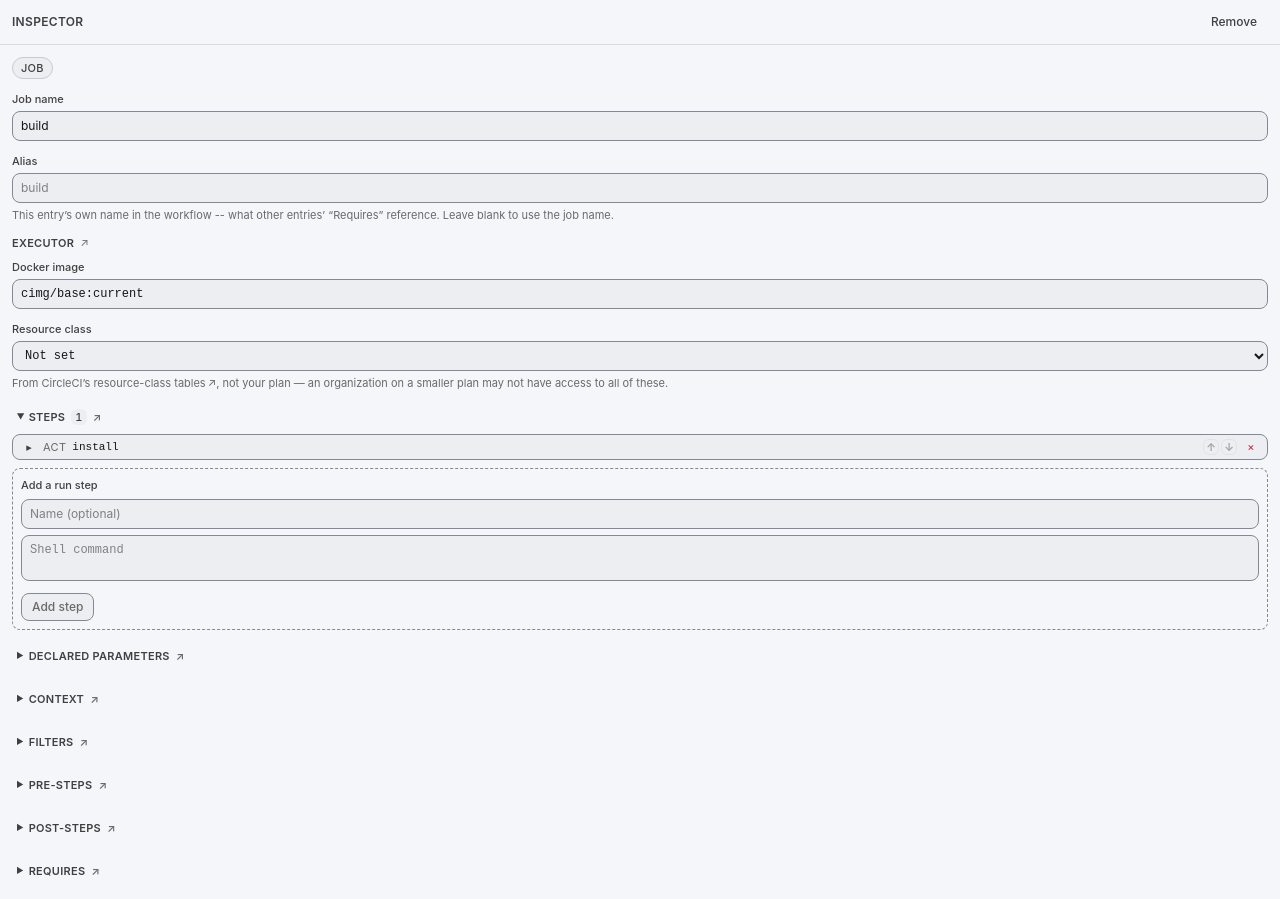
Test: Inspector -- an orb command step is editable (issue #252) › keeps a parameter the orb does not declare, labelled rather than dropped
What coordinates should you click on to do the following:
click the button named "expand install"
I would click on:
 (29, 447)
Its box is x1=21 y1=439 x2=37 y2=455.
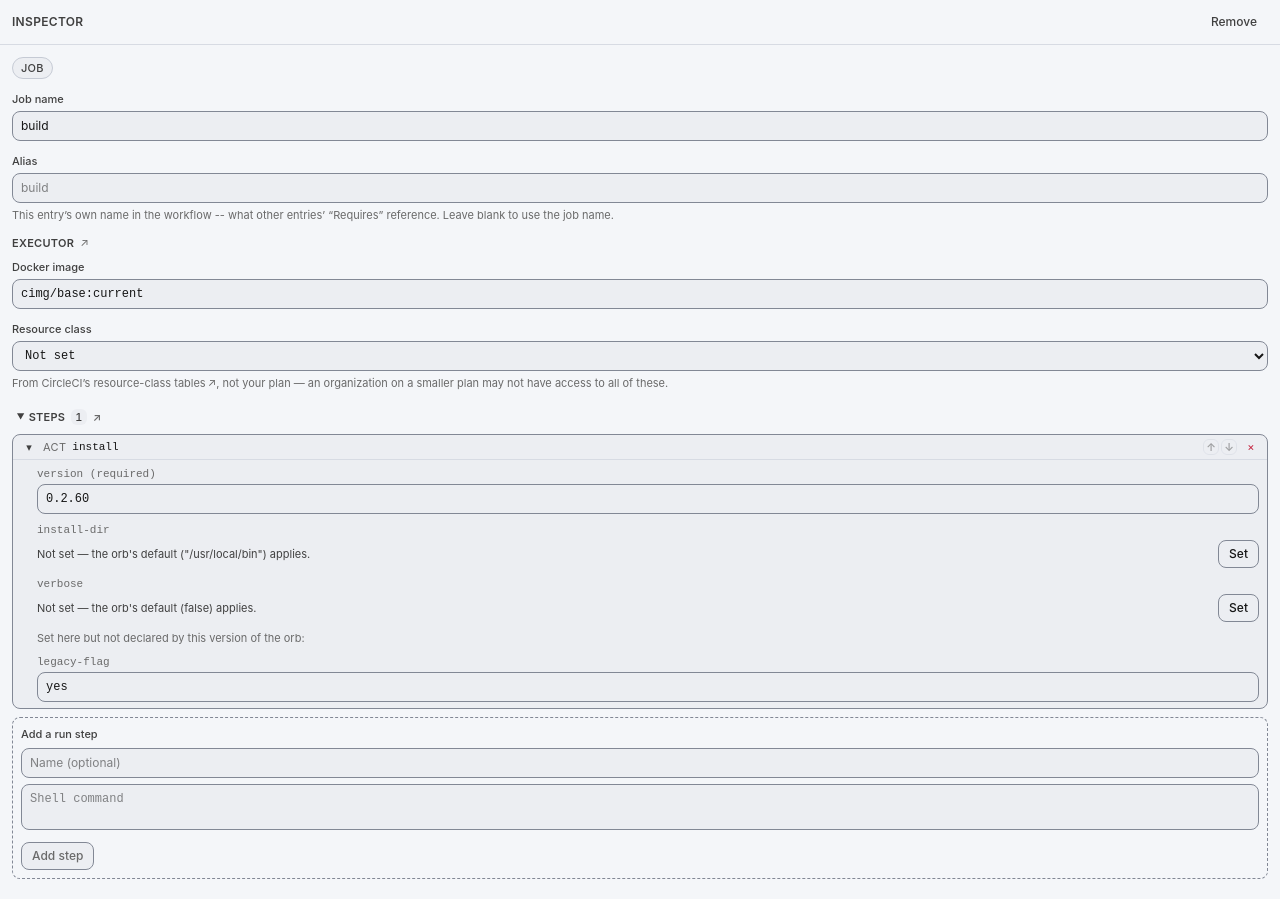
Expected: the field labelled "legacy-flag" is shown, x1=37 y1=672 x2=1259 y2=702
Expected: the text "Set here but not declared by this version of the orb:" is shown, x1=37 y1=631 x2=305 y2=645
